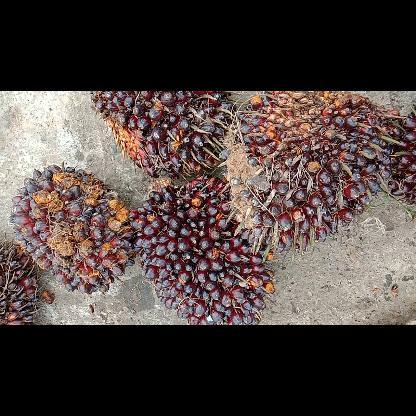Kurang masak: (216, 91, 396, 259), (127, 174, 279, 324), (6, 158, 140, 298), (86, 90, 238, 182)
